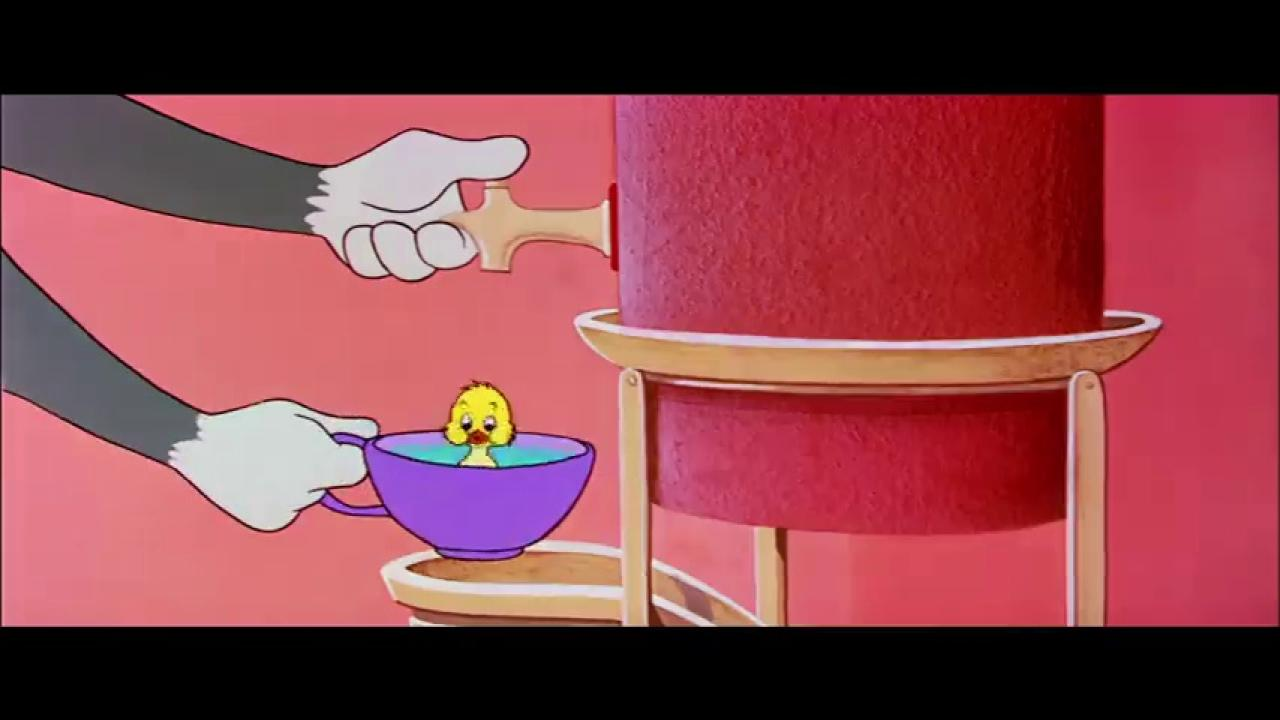Tom: (1, 91, 531, 534)
